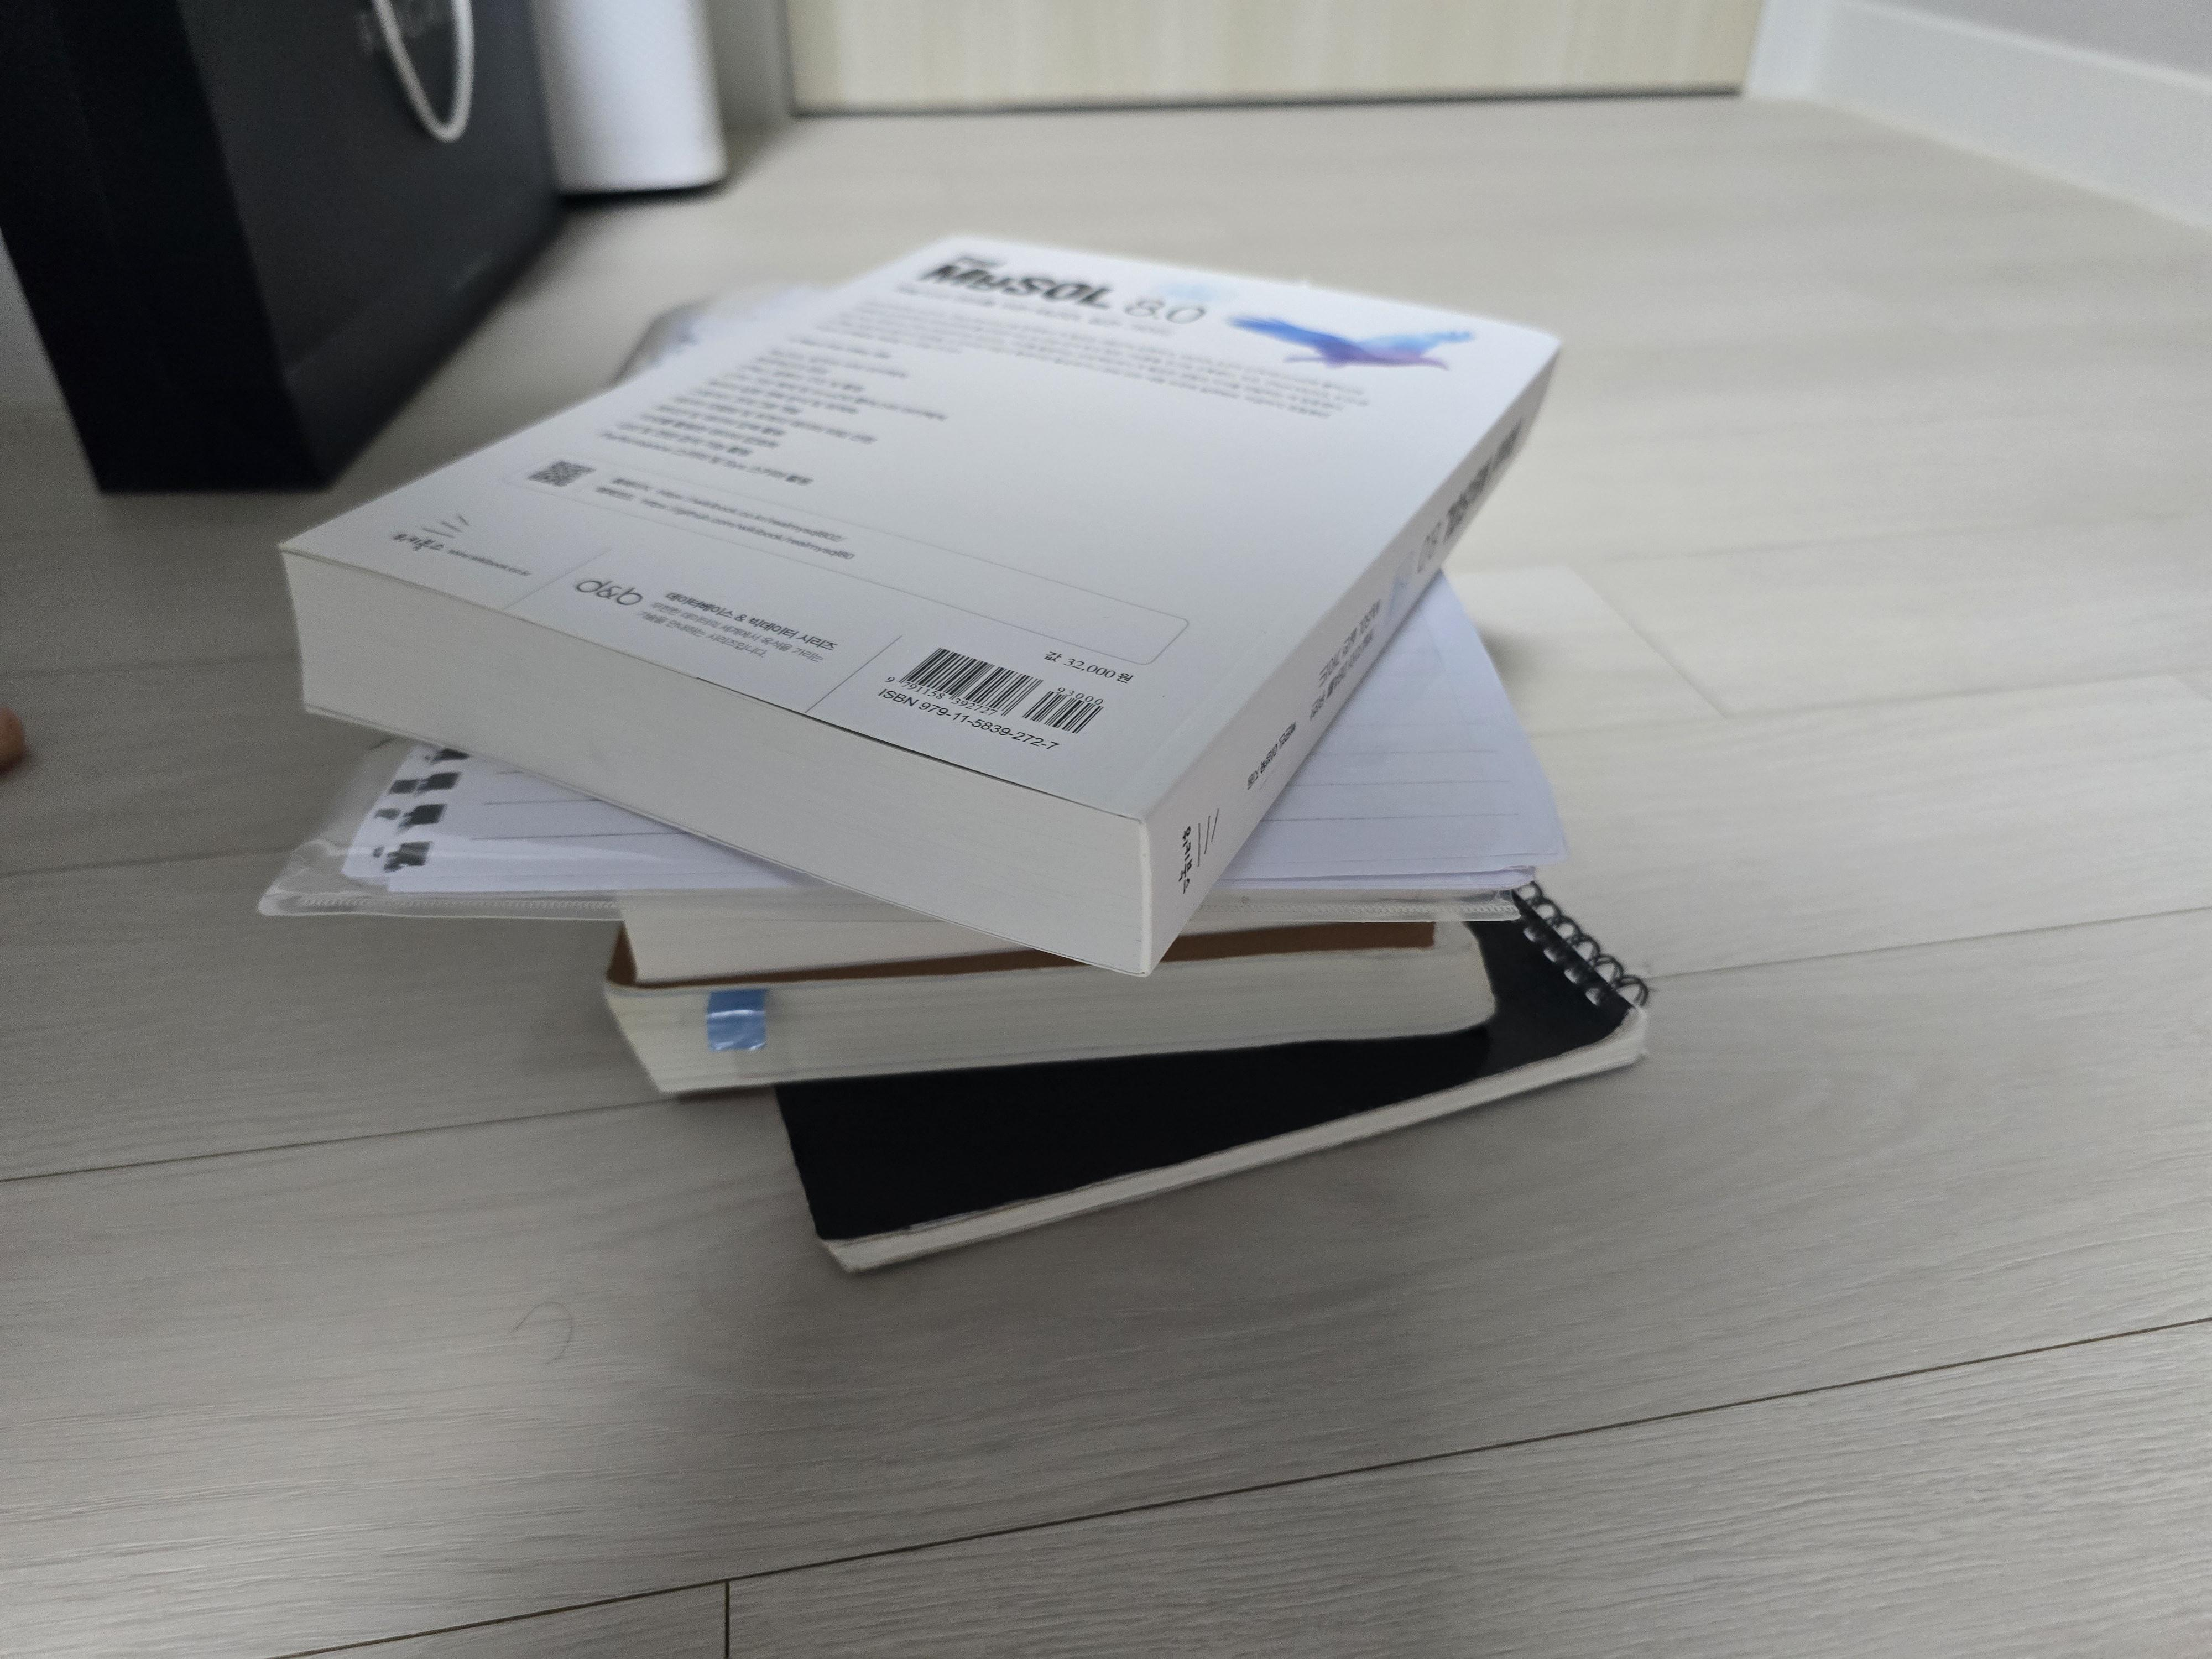book: (273, 230, 1564, 978)
